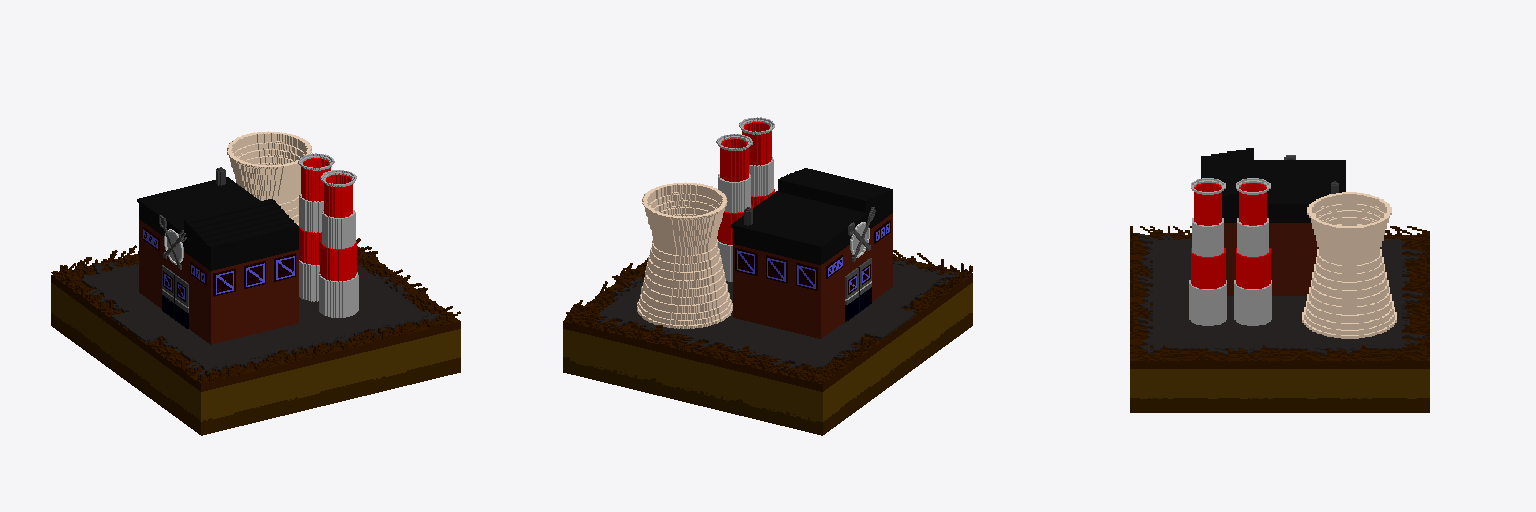
3 renders of one model, left to right at view 1: azimuth 30°, elevation 25°; view 2: azimuth 150°, elevation 25°; view 3: azimuth 270°, elevation 25°, orthographic.
Visible parts, largest first — view 1: FactoryBase.Merged_Plane-tex.001, Factory.Merged_Plane-tex; view 2: Factory.Merged_Plane-tex, FactoryBase.Merged_Plane-tex.001; view 3: FactoryBase.Merged_Plane-tex.001, Factory.Merged_Plane-tex.
Boxes of the visible parts, <box> form: FactoryBase.Merged_Plane-tex.001: <box>51,238,460,435</box>; Factory.Merged_Plane-tex: <box>137,131,358,344</box>; Factory.Merged_Plane-tex: <box>637,117,892,338</box>; FactoryBase.Merged_Plane-tex.001: <box>563,250,972,435</box>; FactoryBase.Merged_Plane-tex.001: <box>1130,226,1429,412</box>; Factory.Merged_Plane-tex: <box>1189,148,1396,338</box>.
Bounding box in the file's own units: 360 × 248 × 360.
Materials: 2 (2 with a texture image).